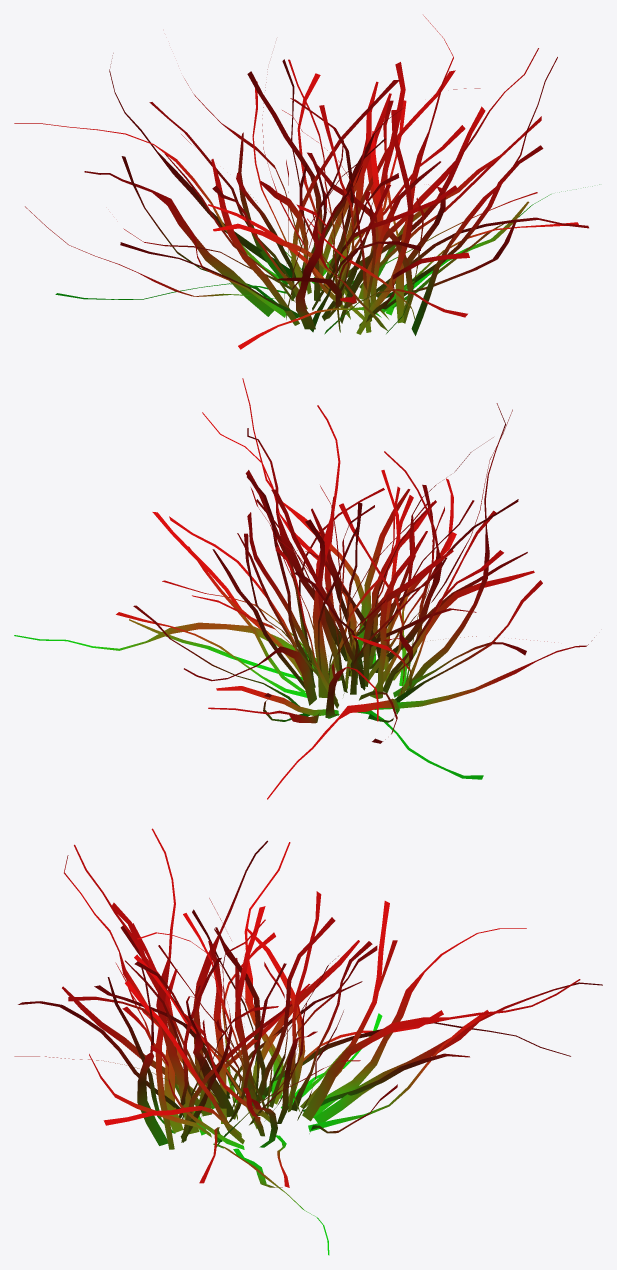
The model's file is Var4_LOD0.fbx.
The picture shows the model from 3 angles, top to bottom: view 1: azimuth 30°, elevation 25°; view 2: azimuth 150°, elevation 25°; view 3: azimuth 270°, elevation 25°; orthographic projection. The views are drawn at different scales.
Parts seen in each view (by area): view 1: _ihh8_Var4_LOD0; view 2: _ihh8_Var4_LOD0; view 3: _ihh8_Var4_LOD0.
Part boxes in pixels (<box>): _ihh8_Var4_LOD0: <box>14,15,599,349</box>; _ihh8_Var4_LOD0: <box>14,378,594,799</box>; _ihh8_Var4_LOD0: <box>14,828,602,1255</box>.
Bounding box in the file's own units: 40.58 × 18.14 × 36.04.
